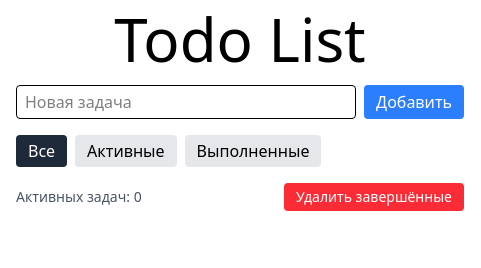
it: Todo App › кнопка удаляет завершённые задачи
Type "Задача X" into the field with placeholder "Новая задача".
click(186, 102); type("Задача X")  # box [16, 85, 356, 119]
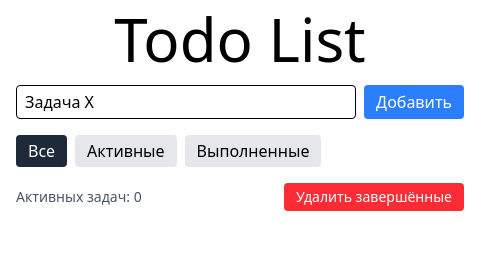
Click the button "Добавить".
click(414, 102)  # box [364, 85, 464, 119]
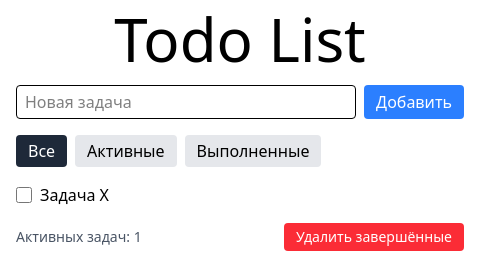
Click the checkbox.
click(24, 195)  # box [16, 187, 32, 203]
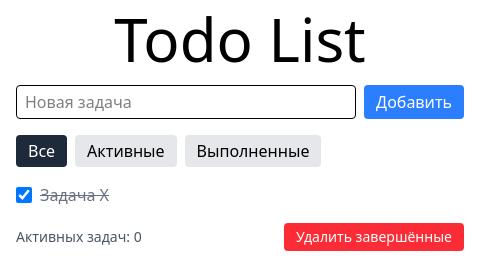
Click the button "Удалить завершённые".
click(374, 237)  # box [284, 223, 464, 251]
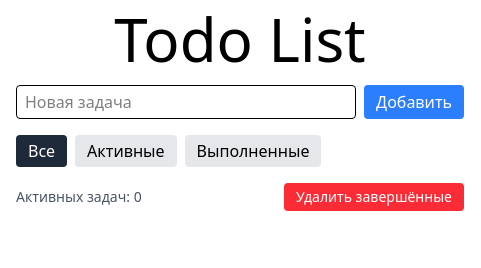
expect the text "Задача X" is gone: met
